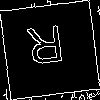R: (25, 25, 67, 75)
